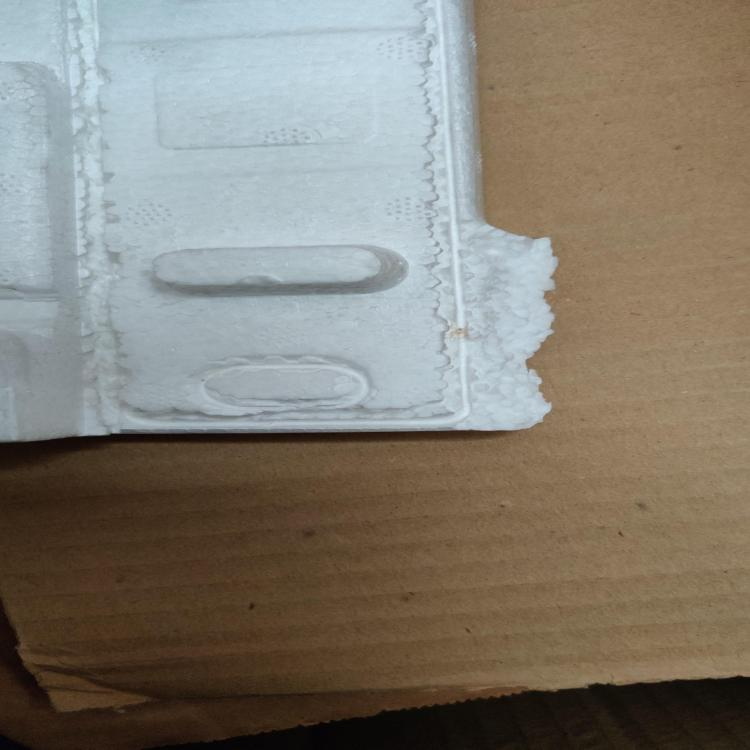Corrugated carton: (0, 0, 746, 712), (0, 626, 585, 749)
Styrofoam piece: (0, 0, 556, 443)
